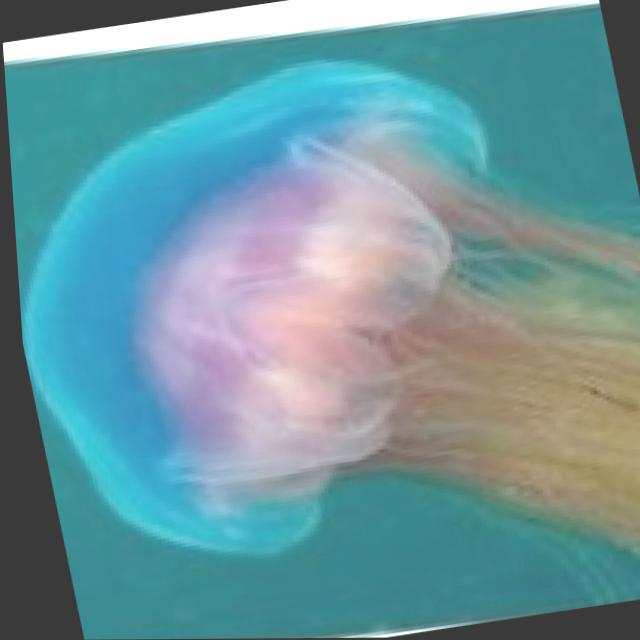Human: (1, 13, 640, 640)
